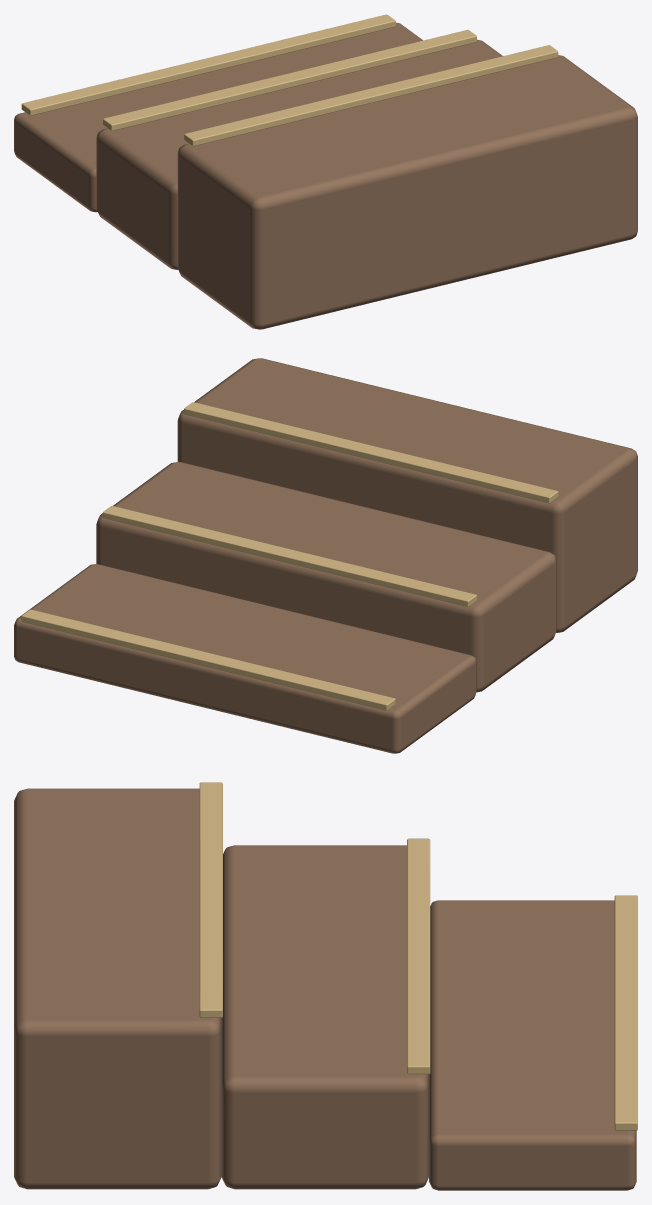
The model's file is abandoned-cinema-and-projection-booth-abandoned-cinema-36ce6731__29698.glb.
3 views of the same model, one above another, from view 1: azimuth 30°, elevation 25°; view 2: azimuth 150°, elevation 25°; view 3: azimuth 270°, elevation 25° (orthographic). The views are drawn at different scales.
Visible parts, largest first — view 1: abandoned-cinema-and-projection-booth-aisle-step-unit; view 2: abandoned-cinema-and-projection-booth-aisle-step-unit; view 3: abandoned-cinema-and-projection-booth-aisle-step-unit.
Boxes of the visible parts, left/top/right/bottom form: abandoned-cinema-and-projection-booth-aisle-step-unit: left=14, top=14, right=637, bottom=329; abandoned-cinema-and-projection-booth-aisle-step-unit: left=14, top=358, right=637, bottom=753; abandoned-cinema-and-projection-booth-aisle-step-unit: left=14, top=782, right=637, bottom=1190.
Size of the model in its own units: 1.1 by 0.378 by 1.2.
